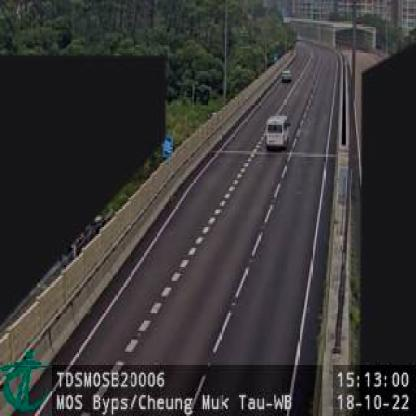Car: (265, 113, 292, 152), (280, 68, 293, 83)
